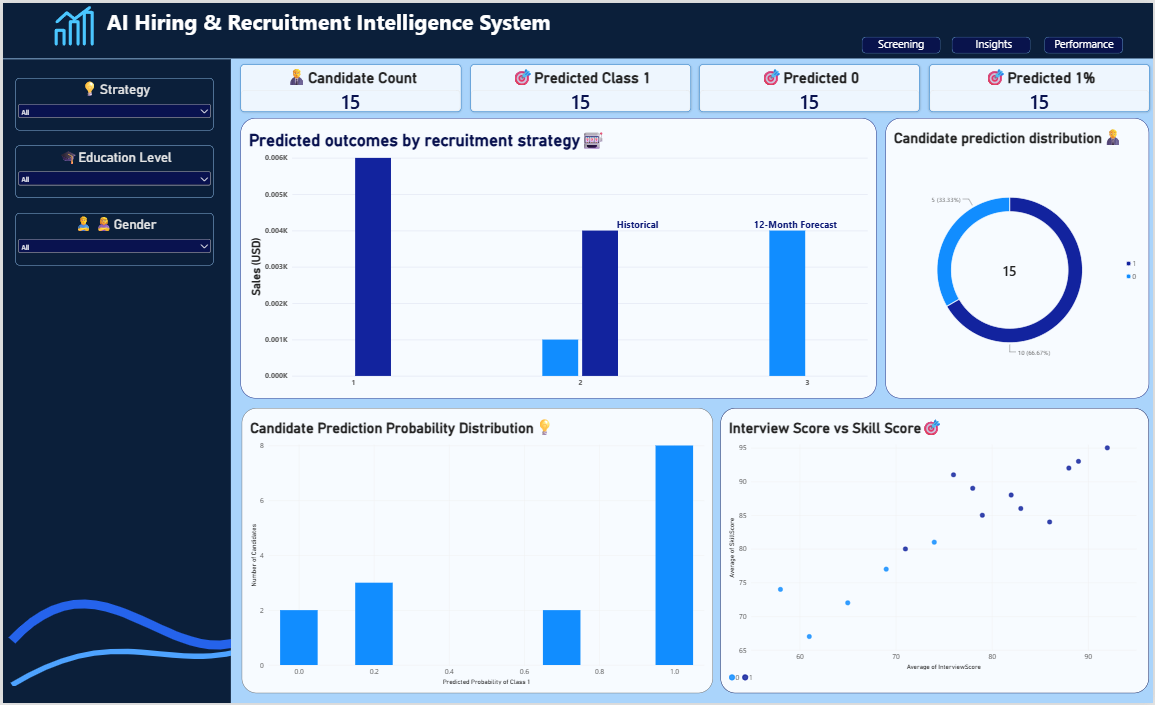

The dashboard page shown, as its layout file describes it:
{"tool":"powerbi","page":{"name":"Executive Dashboard","canvas":[2300,1400],"ordinal":0},"visuals":[{"type":"shape","box":[0,0,2300.5,111],"z":0},{"type":"cardVisual","title":"🧑💼Candidate Count","fields":{"Data":["new_candidates_synthetic_scored.Candidate Count"]},"box":[474.8,121.7,441.4,95.4],"z":1000},{"type":"clusteredColumnChart","title":"Predicted outcomes by recruitment strategy🎰","fields":{"Category":["new_candidates_synthetic_scored.RecruitmentStrategy"],"Series":["new_candidates_synthetic_scored.prediction"],"Y":["new_candidates_synthetic_scored.Candidate Count"]},"box":[474.8,229,1271.6,560.7],"z":2000},{"type":"textbox","box":[207.6,7.2,1569.9,114.5],"z":3000},{"type":"shape","title":"Candidate","box":[1717.1,67.1,157.5,33.4],"z":4000},{"type":"shape","box":[0,111.6,455.7,1288.4],"z":5000},{"type":"slicer","title":"💡Strategy","fields":{"Values":["new_candidates_synthetic_scored.Strategy Label"]},"box":[26.2,150.3,396,105],"z":6000},{"type":"image","box":[90.7,0,105,100.2],"z":7000},{"type":"image","box":[0,1071.2,455.7,295.8],"z":8000},{"type":"donutChart","title":"Candidate prediction distribution🧑💼","fields":{"Category":["new_candidates_synthetic_scored.prediction"],"Y":["new_candidates_synthetic_scored.Candidate Count"]},"box":[1765.5,229,527.3,560.7],"z":9000},{"type":"textbox","box":[1228.7,429.5,472.4,83.5],"z":10000},{"type":"cardVisual","title":"🎯Predicted Class 1","fields":{"Data":["new_candidates_synthetic_scored.Candidate Count"]},"box":[933.9,121.7,441,95.4],"z":11000},{"type":"cardVisual","title":"🎯Predicted 0","fields":{"Data":["new_candidates_synthetic_scored.Candidate Count"]},"box":[1392.7,121.7,441,95.4],"z":12000},{"type":"cardVisual","title":"🎯Predicted 1%","fields":{"Data":["new_candidates_synthetic_scored.Candidate Count"]},"box":[1851.4,121.7,441,95.4],"z":13000},{"type":"clusteredColumnChart","title":"Candidate Prediction Probability Distribution💡","fields":{"Category":["new_candidates_synthetic_scored.proba_1 (bins)"],"Y":["CountNonNull(new_candidates_synthetic_scored.Customer_ID)"]},"box":[477.2,811.2,942.4,570.2],"z":14000},{"type":"scatterChart","title":"Interview Score vs Skill Score🎯","fields":{"Category":["new_candidates_synthetic_scored.Customer_ID"],"Series":["new_candidates_synthetic_scored.prediction"],"X":["Avg(new_candidates_synthetic_scored.InterviewScore)"],"Y":["Avg(new_candidates_synthetic_scored.SkillScore)"]},"box":[1433.9,811.2,856.5,570.2],"z":15000},{"type":"slicer","title":"🎓Education Level","fields":{"Values":["new_candidates_synthetic_scored.Education Level Label"]},"box":[26.2,285.1,396,105],"z":16000},{"type":"slicer","title":"🙎♂️🙎♀️Gender","fields":{"Values":["new_candidates_synthetic_scored.Gender Label"]},"box":[26.2,419.9,396,105],"z":17000},{"type":"shape","title":"Candidate","box":[1898.6,67.1,157.5,33.4],"z":18000},{"type":"shape","title":"Candidate","box":[2082.9,67.1,157.5,33.4],"z":19000},{"type":"textbox","box":[1944.3,67.9,111.4,32.9],"z":20000},{"type":"textbox","box":[2103.6,67.9,141.4,32.9],"z":21000},{"type":"textbox","box":[1750.7,67.9,111.4,32.9],"z":22000}]}

Visuals, with their boxes in screenshot pixels (x1, y1, x2, y2), scaled from the page's 2300x1400 canvas onto the 1155x705 screenshot:
shape: [0, 0, 1154, 56]
"🧑💼Candidate Count" cardVisual: [238, 61, 460, 109]
"Predicted outcomes by recruitment strategy🎰" clusteredColumnChart: [238, 115, 877, 398]
textbox: [104, 4, 893, 61]
"Candidate" shape: [862, 34, 941, 51]
shape: [0, 56, 229, 704]
"💡Strategy" slicer: [13, 76, 212, 129]
image: [46, 0, 98, 50]
image: [0, 539, 229, 688]
"Candidate prediction distribution🧑💼" donutChart: [887, 115, 1151, 398]
textbox: [617, 216, 854, 258]
"🎯Predicted Class 1" cardVisual: [469, 61, 690, 109]
"🎯Predicted 0" cardVisual: [699, 61, 921, 109]
"🎯Predicted 1%" cardVisual: [930, 61, 1151, 109]
"Candidate Prediction Probability Distribution💡" clusteredColumnChart: [240, 408, 713, 696]
"Interview Score vs Skill Score🎯" scatterChart: [720, 408, 1150, 696]
"🎓Education Level" slicer: [13, 144, 212, 196]
"🙎♂️🙎♀️Gender" slicer: [13, 211, 212, 264]
"Candidate" shape: [953, 34, 1033, 51]
"Candidate" shape: [1046, 34, 1125, 51]
textbox: [976, 34, 1032, 51]
textbox: [1056, 34, 1127, 51]
textbox: [879, 34, 935, 51]
